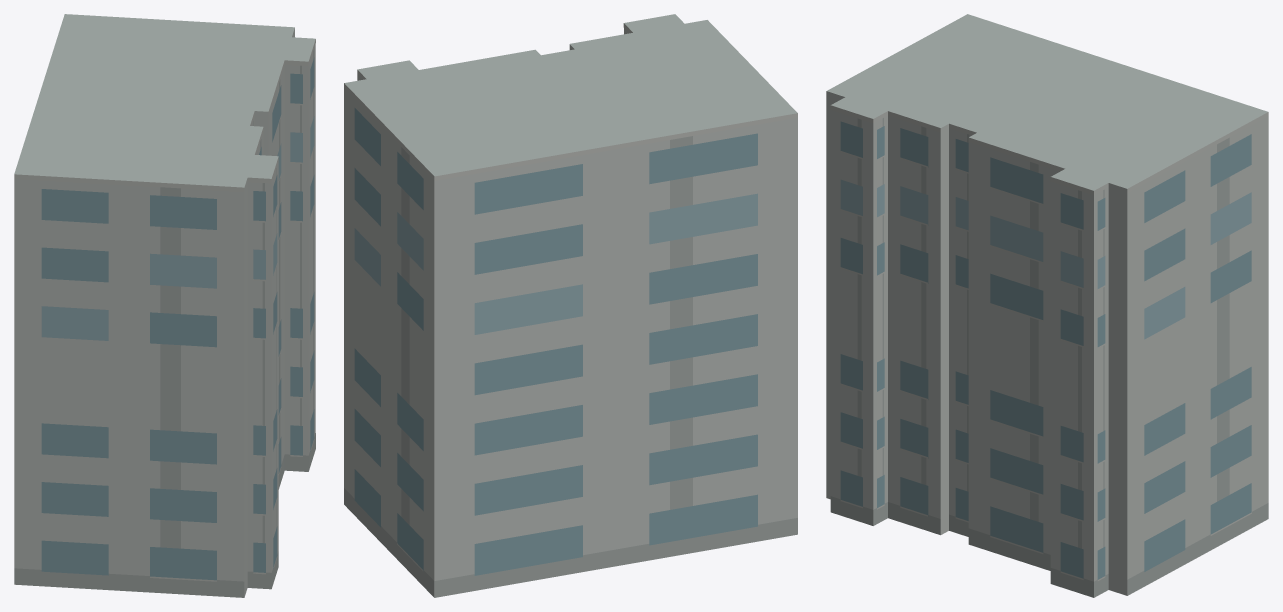
Rendered from survey-upis-32636145.glb.
3 renders of one model, left to right at view 1: azimuth 30°, elevation 25°; view 2: azimuth 150°, elevation 25°; view 3: azimuth 270°, elevation 25°, orthographic. The views are drawn at different scales.
Parts seen in each view (by area): view 1: survey-upis-32636145.tmp; view 2: survey-upis-32636145.tmp; view 3: survey-upis-32636145.tmp.
Boxes of the visible parts, bbox=[...] form: survey-upis-32636145.tmp: bbox=[14, 14, 315, 597]; survey-upis-32636145.tmp: bbox=[344, 14, 797, 597]; survey-upis-32636145.tmp: bbox=[826, 14, 1268, 597].
Bounding box in the file's own units: 20.88 × 22.4 × 22.05.
